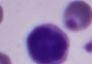L: (25, 22, 70, 64)
